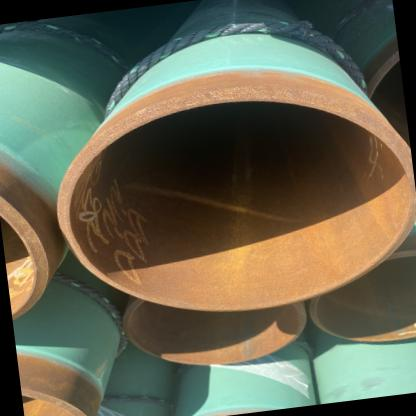clean: (212, 72, 285, 148)
